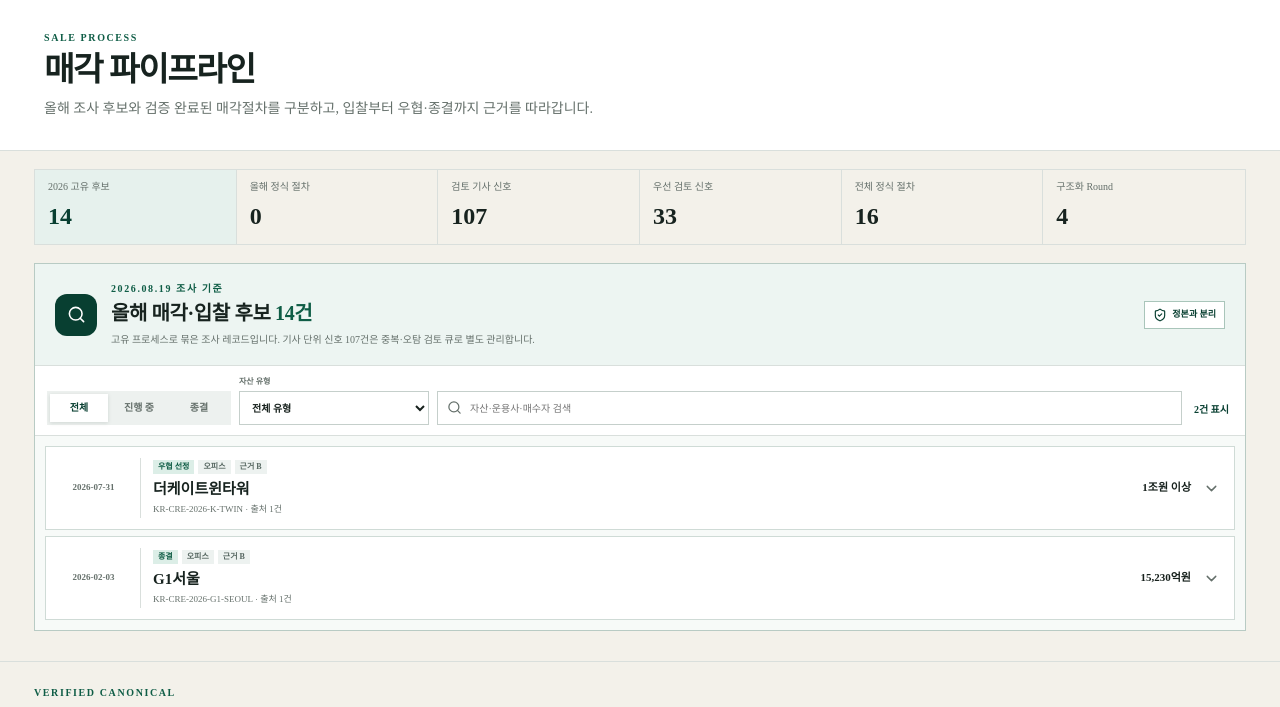
Test: SaleProcessWorkspace › filters active candidates and exposes the source-based reasoning
Click the heading "G1서울" at (100, 578), box [46,537,1234,619]
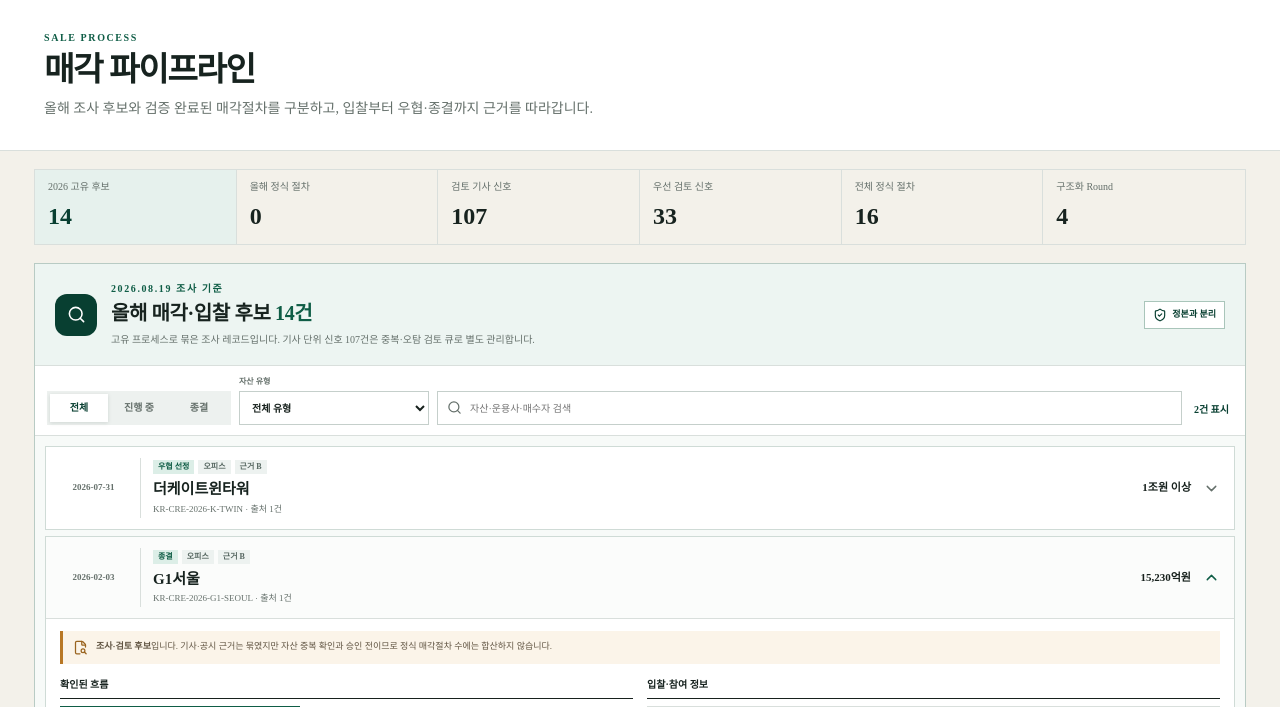
Click the button "진행 중" at (139, 408), box [110,394,168,422]
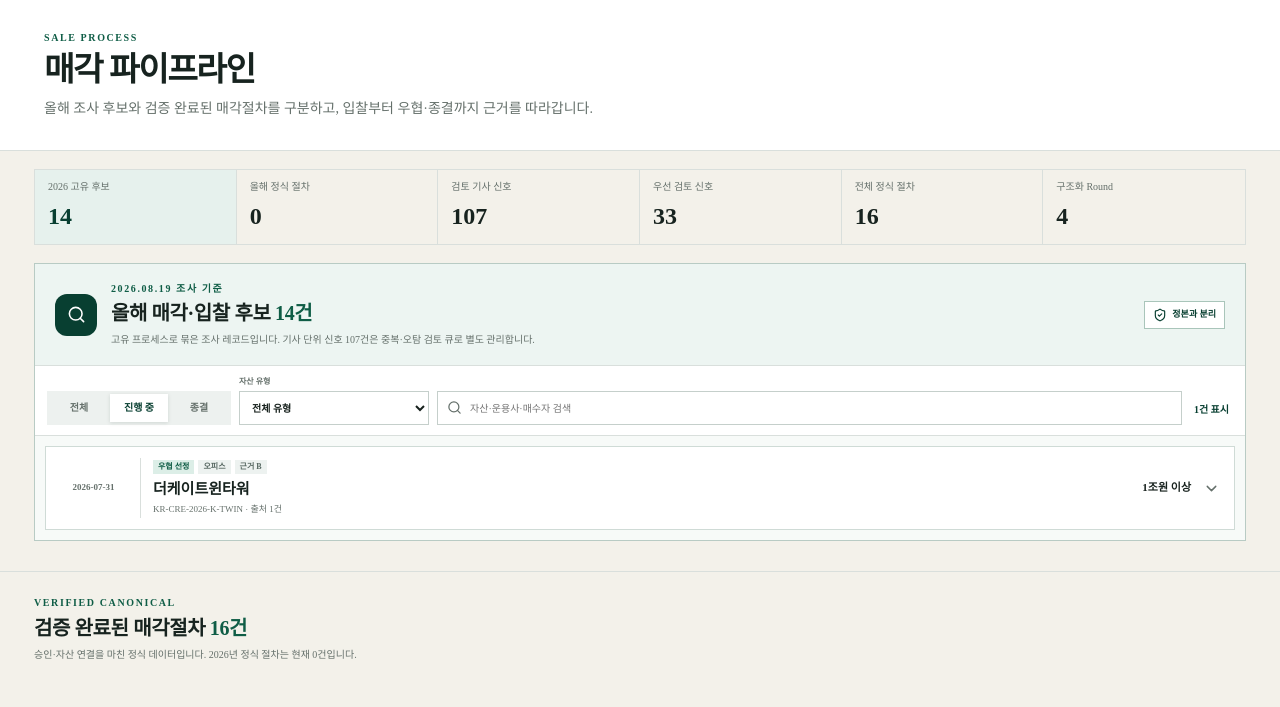
Expected: the heading "더케이트윈타워" is shown, [153,481,250,497]
Expected: the heading "G1서울" is gone
Expected: the text "1건 표시" is shown, [1194,404,1229,414]
